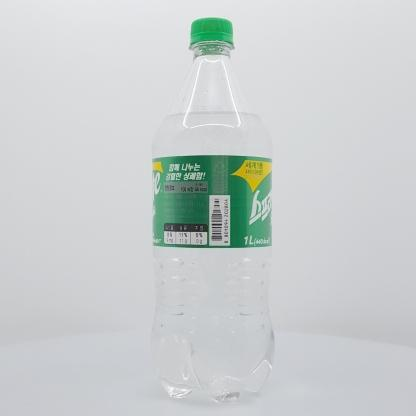--------1L: (151, 17, 275, 402)
